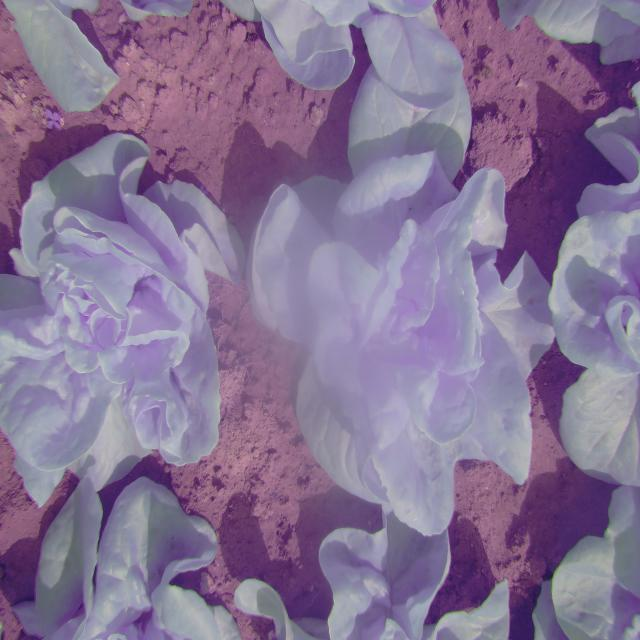vege: (244, 92, 554, 530)
